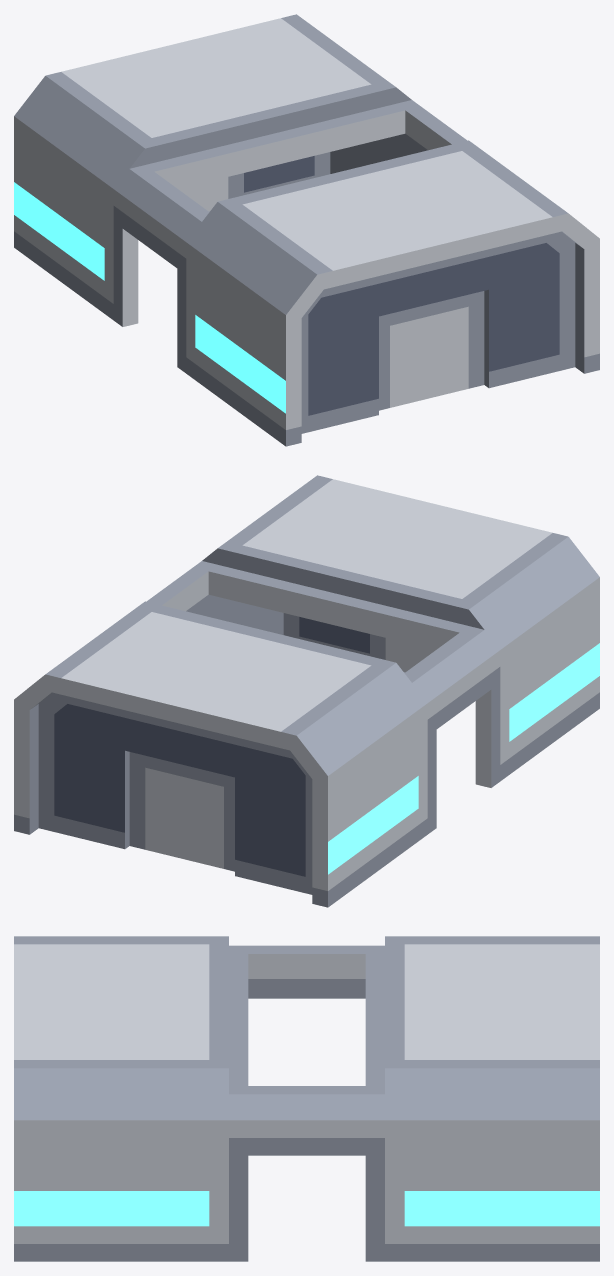
Rendered from hangar_largeA.glb.
3 views of the same model, one above another, from view 1: azimuth 30°, elevation 25°; view 2: azimuth 150°, elevation 25°; view 3: azimuth 270°, elevation 25° (orthographic). The views are drawn at different scales.
Parts seen in each view (by area): view 1: hangar_largeA, gate (×2); view 2: hangar_largeA, gate (×2); view 3: hangar_largeA.
Boxes of the visible parts, x1=… form: hangar_largeA: x1=14, y1=14, x2=599, y2=446; gate (×2): x1=178, y1=152, x2=575, y2=433; hangar_largeA: x1=14, y1=475, x2=599, y2=907; gate (×2): x1=38, y1=613, x2=435, y2=894; hangar_largeA: x1=14, y1=936, x2=599, y2=1261.
Bounding box in the file's own units: 2 × 1 × 3.
